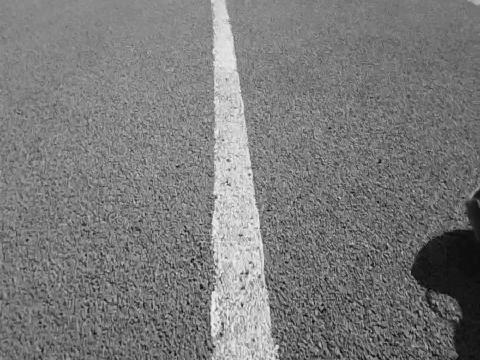Lines: (211, 0, 277, 360)
